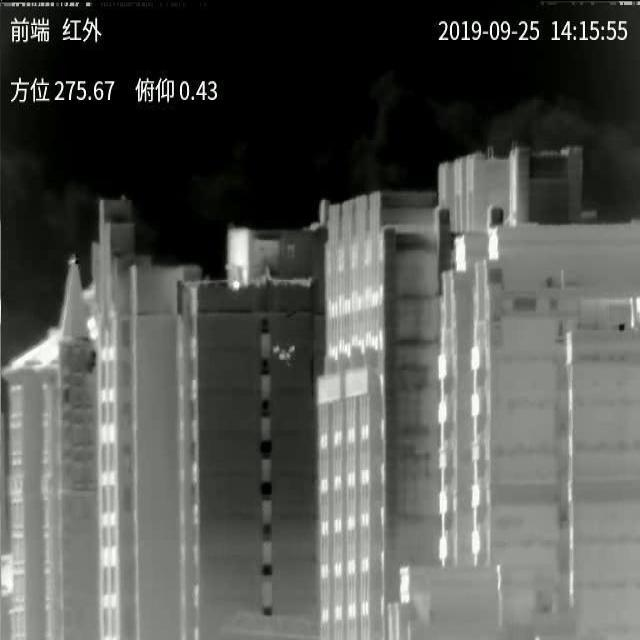drone: (273, 344, 295, 366)
